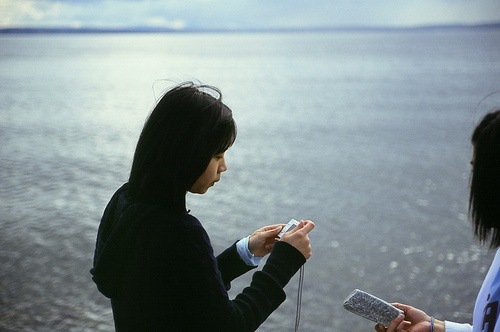head: (133, 80, 239, 196)
person: (90, 78, 340, 330), (345, 94, 500, 332)
